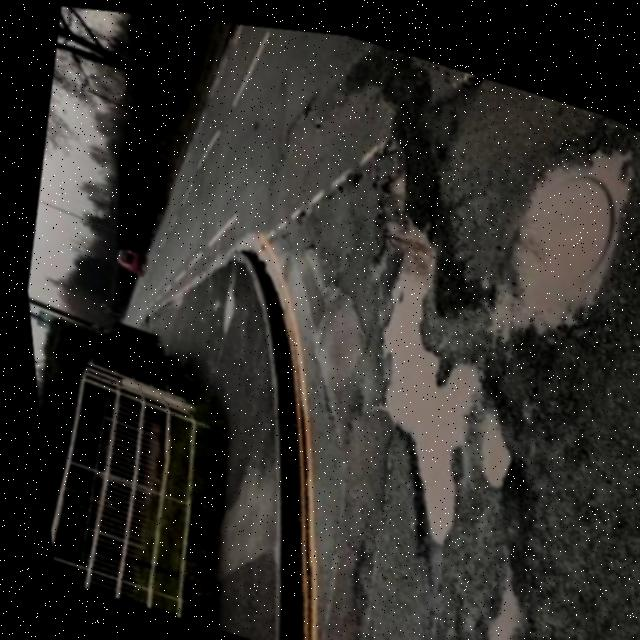Pothole: (450, 90, 640, 387), (311, 299, 522, 564), (341, 141, 456, 243), (434, 554, 538, 640)
